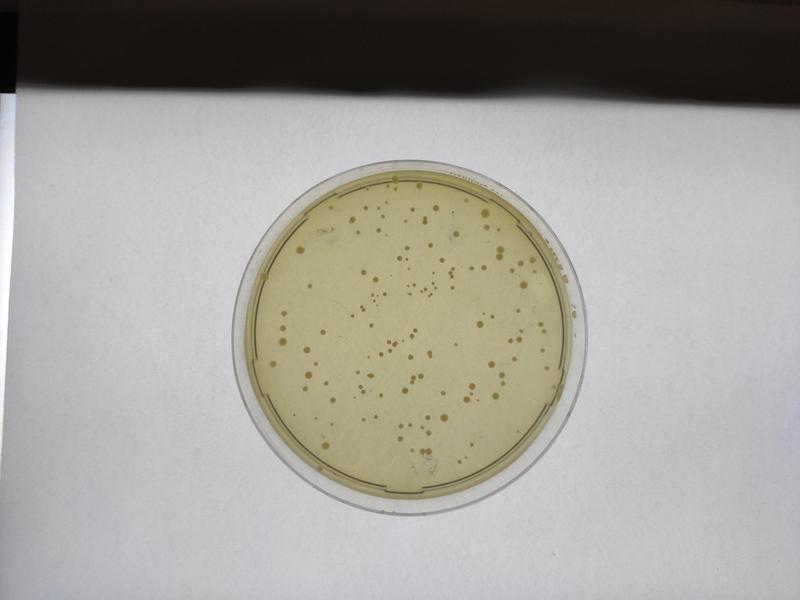colony: (291, 241, 308, 260), (475, 204, 493, 221), (435, 409, 451, 426), (515, 278, 532, 293), (480, 355, 497, 370), (325, 393, 341, 408), (273, 335, 289, 350), (313, 325, 329, 339), (263, 358, 279, 372), (471, 318, 485, 333), (297, 343, 313, 356), (356, 264, 369, 280), (318, 440, 333, 453), (429, 199, 441, 215), (397, 386, 410, 398), (303, 279, 314, 291)
